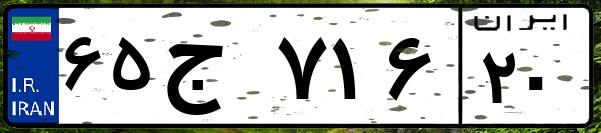0: (525, 38, 570, 115)
1: (330, 28, 385, 110)
2: (475, 38, 525, 113)
5: (110, 28, 158, 98)
6: (385, 28, 445, 110), (57, 26, 110, 100)
7: (270, 28, 330, 110)
ج: (158, 20, 270, 120)
